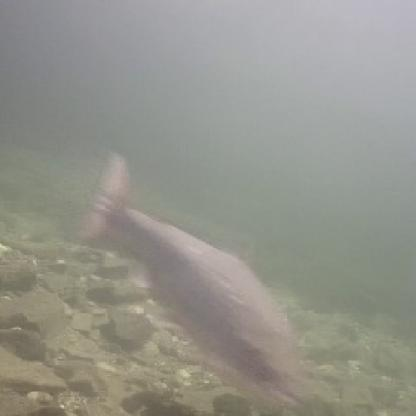salmon: (66, 146, 312, 406)
